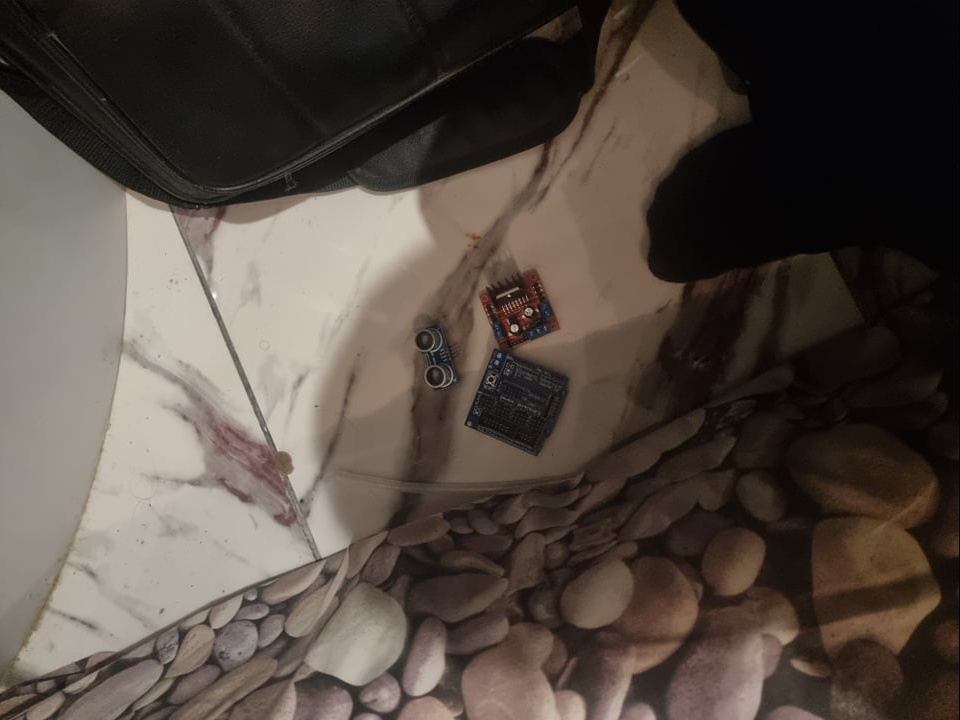5V EXPANSION: (466, 350, 570, 455)
MOTOR: (480, 269, 563, 347)
SENSOR: (415, 327, 462, 393)
